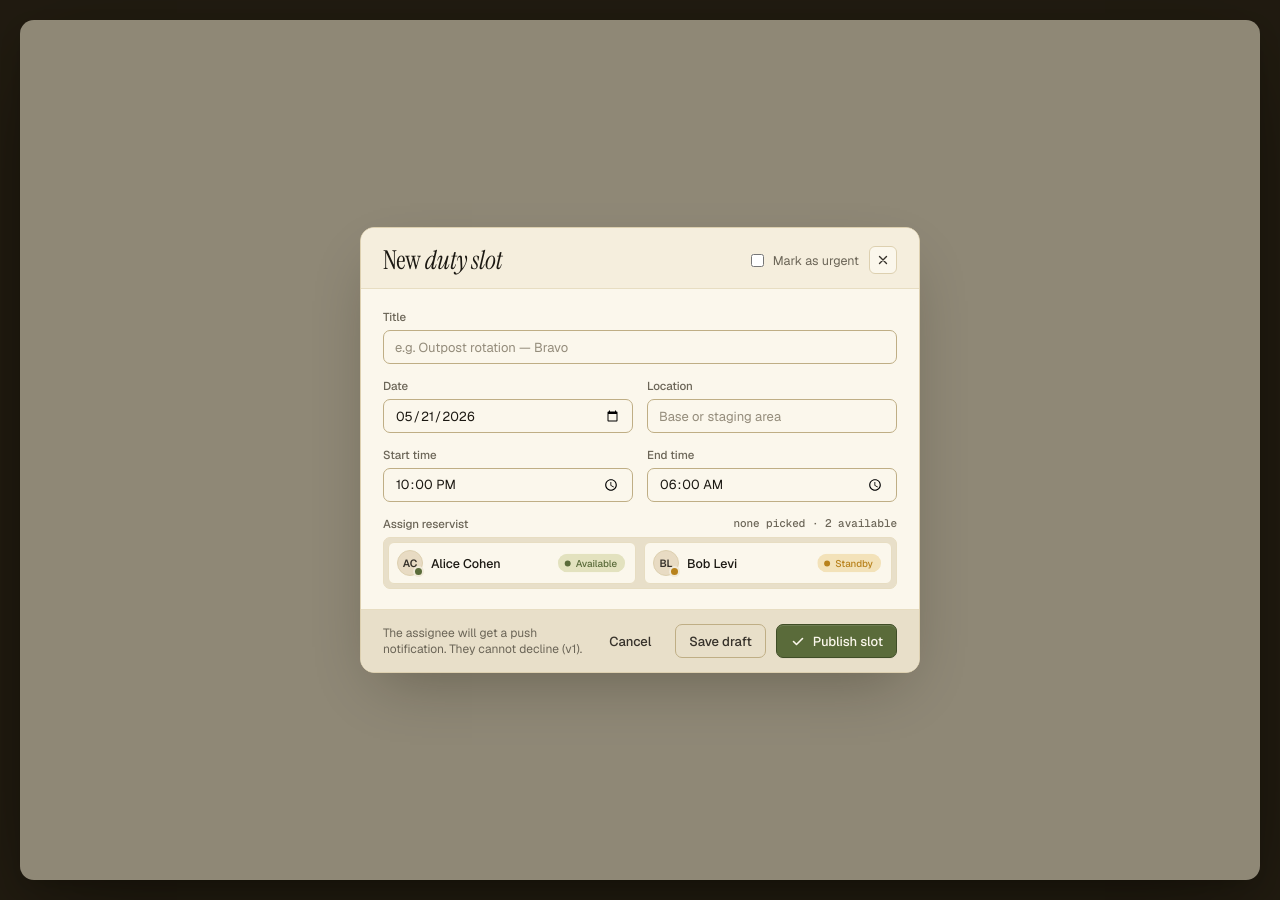
Test: NewSlotModal › toggling "Mark as urgent" flips the modal into urgent mode
Click the checkbox labelled "Mark as urgent".
click(757, 260)  # box [751,254,764,266]
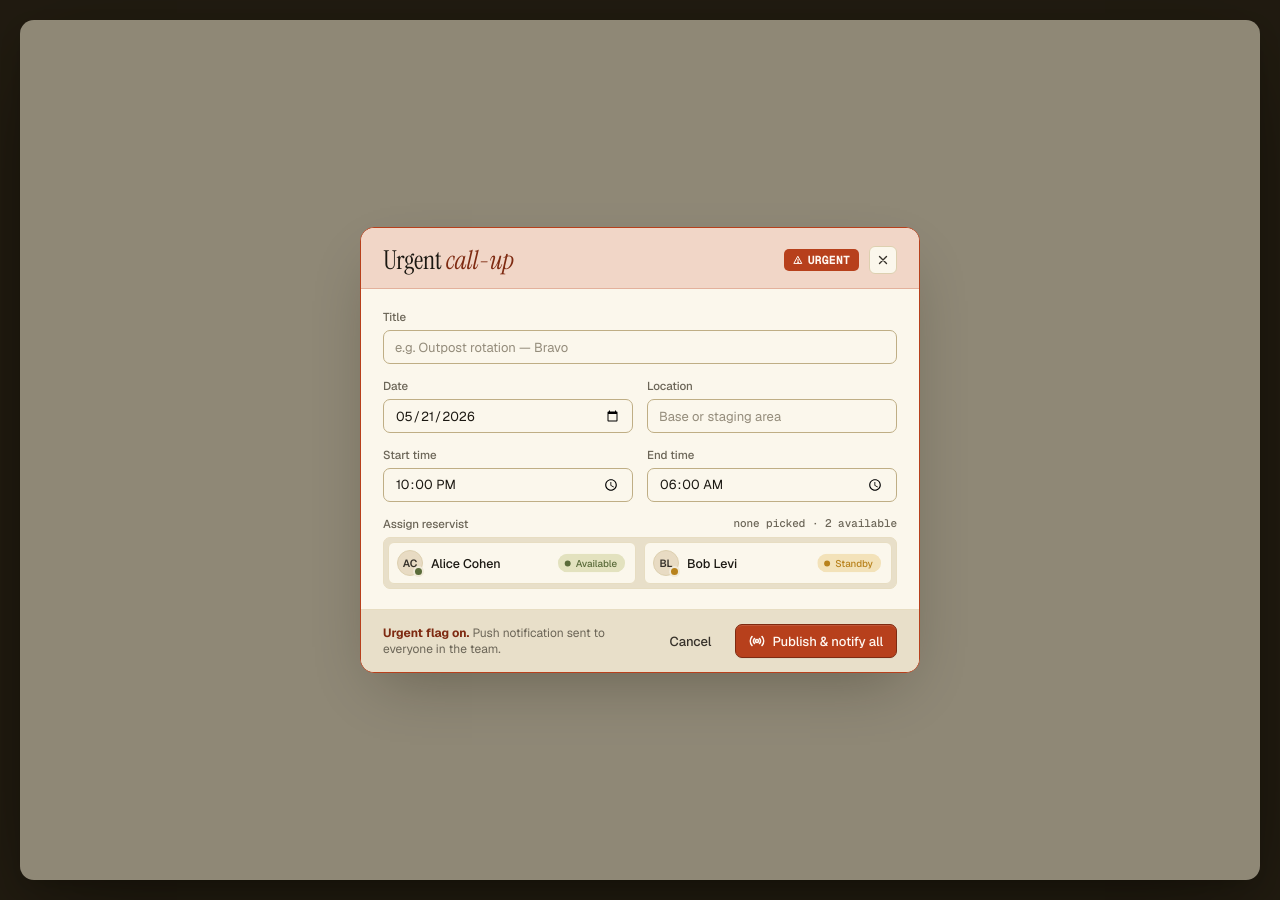
Check: the button "Publish & notify all" is shown, box [736,624,897,658]
